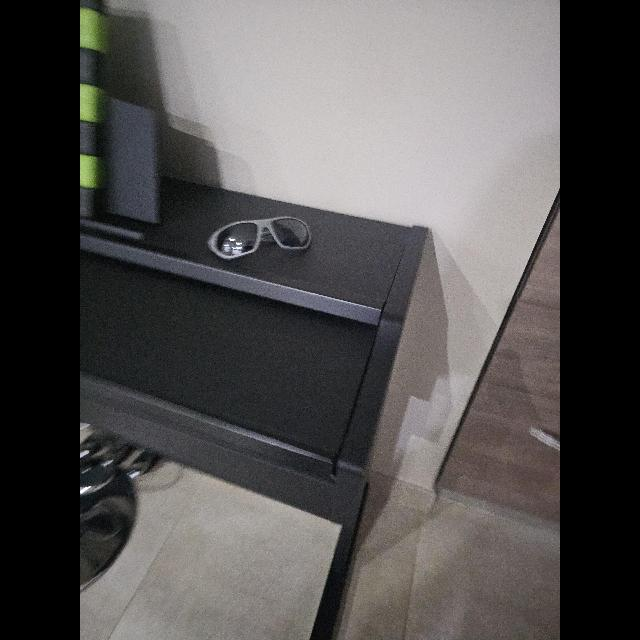Sunglasses: (208, 217, 312, 259)
